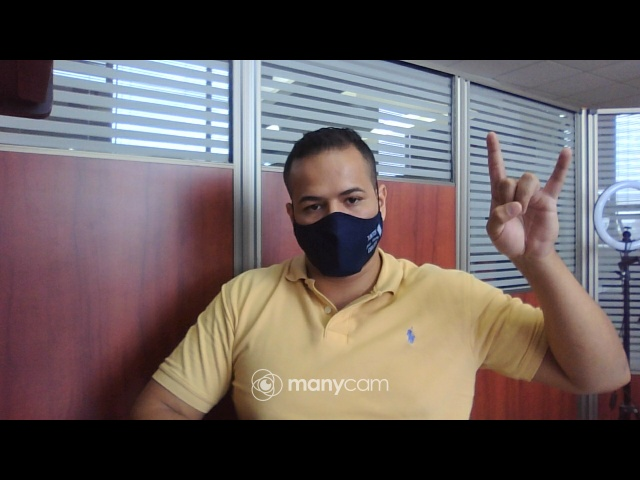I Love You: (480, 128, 576, 265)
